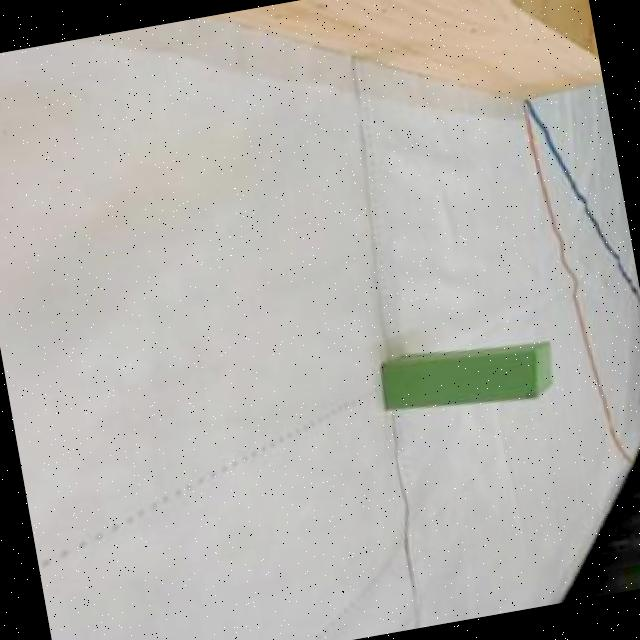greenbox: (378, 330, 556, 423)
